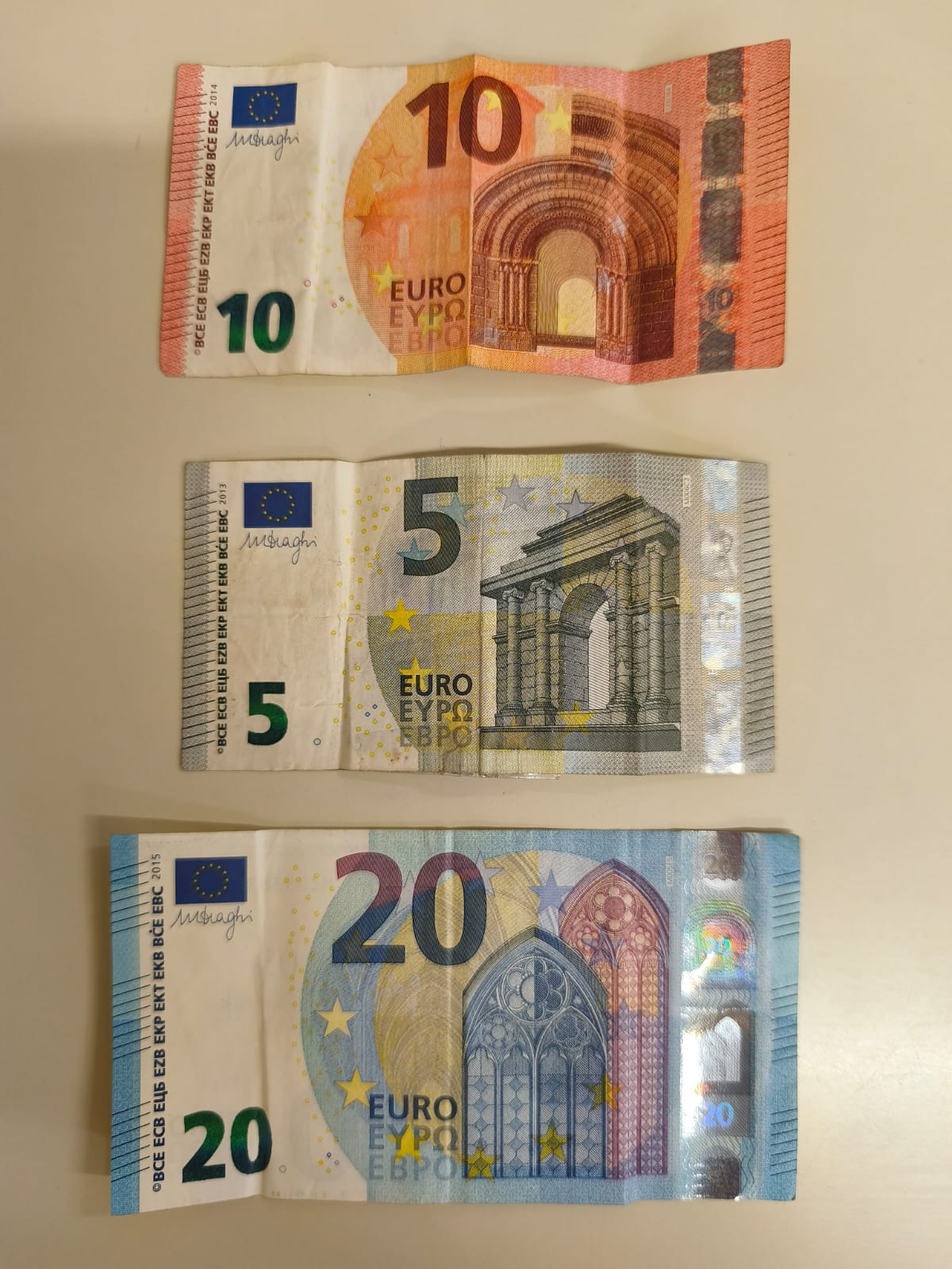Nota de 10€: (147, 30, 801, 394)
Nota de 20€: (99, 815, 807, 1220)
Nota de 5€: (169, 442, 785, 786)
